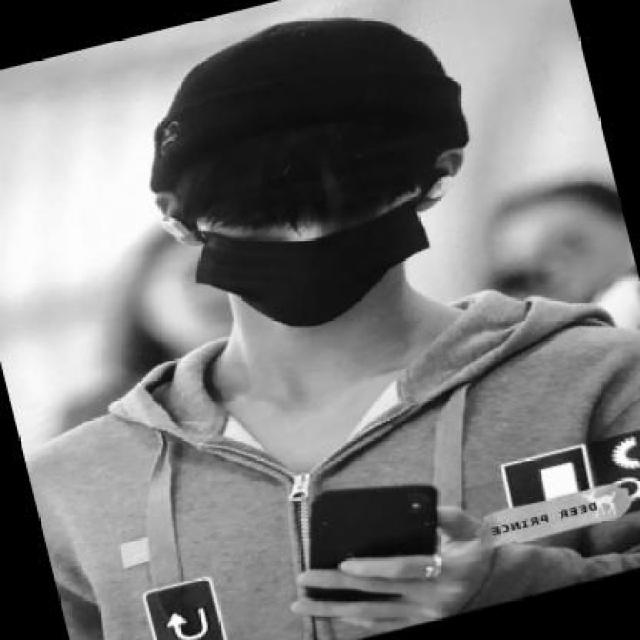earphone: (159, 205, 195, 253), (428, 166, 457, 220)
smart phone: (304, 467, 450, 617)
